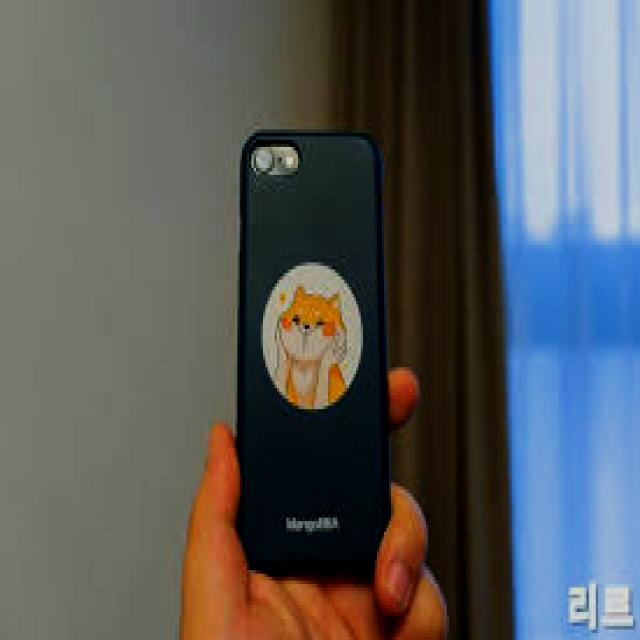lens: (251, 143, 306, 175)
phone: (233, 125, 397, 573)
